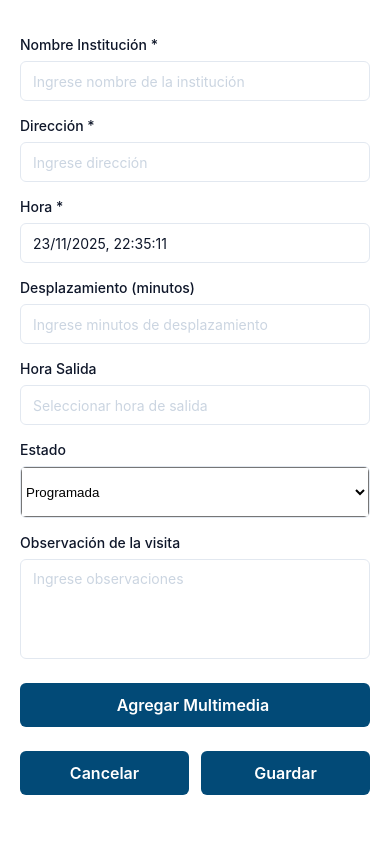
Test: VisitForm - Multimedia Upload › adjunta múltiples archivos al formulario
// Add photo
Click the text "Agregar Multimedia" at (195, 705), box x1=117 y1=695 x2=273 y2=715
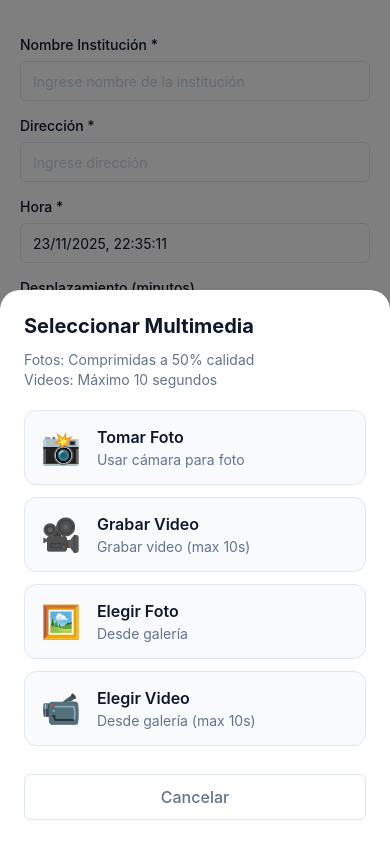
Click the text "Tomar Foto" at (140, 437), box x1=97 y1=427 x2=184 y2=447
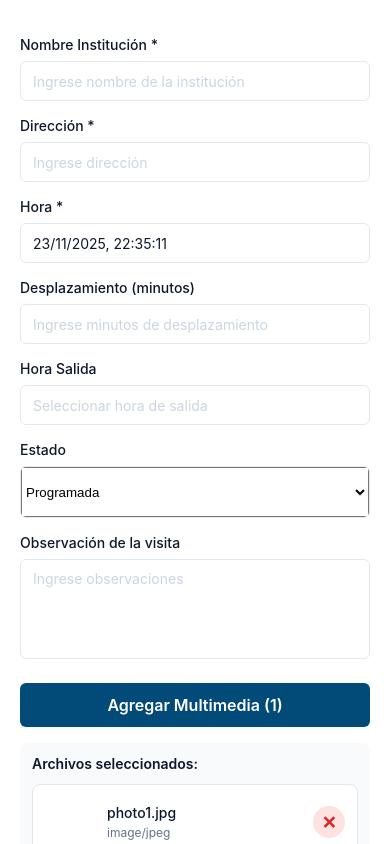
Result: the text "photo1.jpg" is shown at x1=107 y1=804 x2=176 y2=821
// Add video
Click the text "Agregar Multimedia (1)" at (195, 705), box x1=107 y1=695 x2=283 y2=715
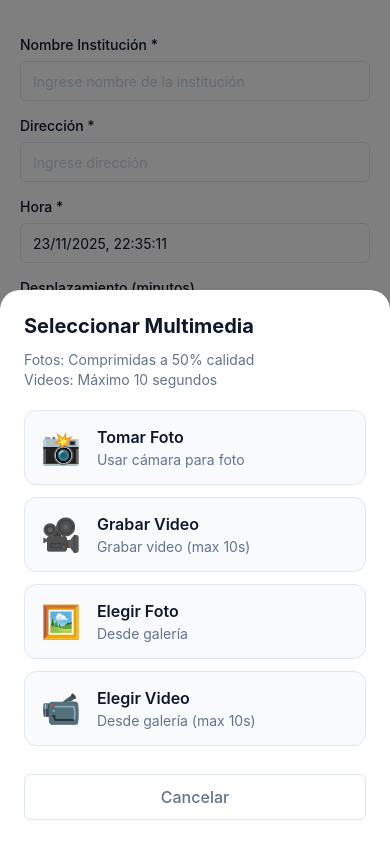
Click the text "Grabar Video" at (148, 524), box x1=97 y1=514 x2=199 y2=534
(page scrolled)
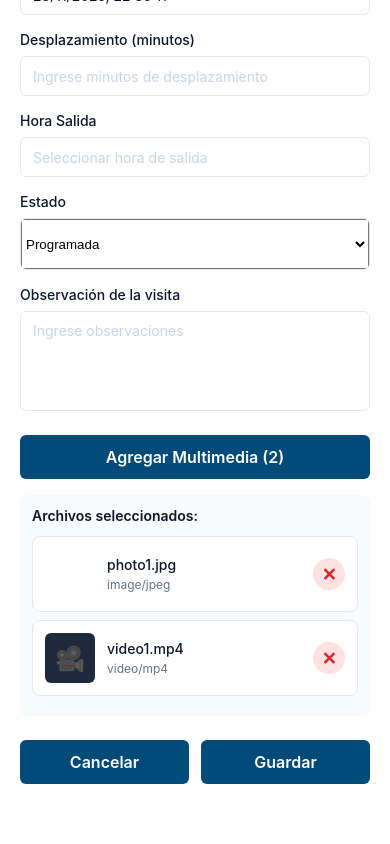
Result: the text "photo1.jpg" is shown at x1=107 y1=556 x2=176 y2=573
Result: the text "video1.mp4" is shown at x1=107 y1=640 x2=184 y2=657
